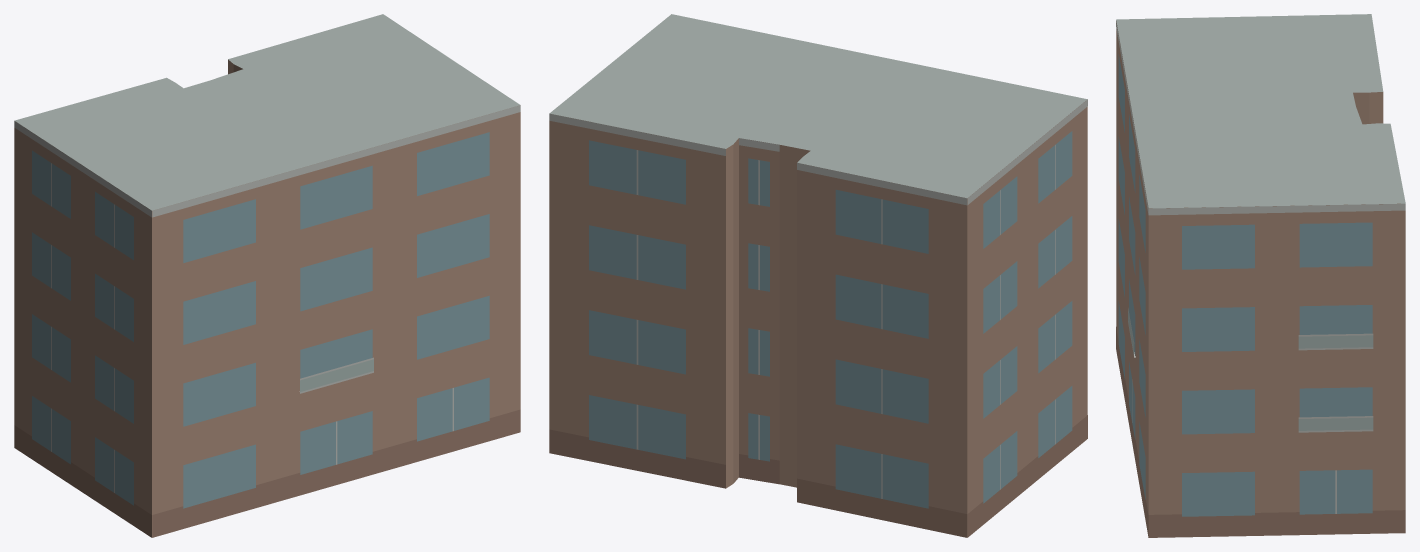
The model's file is survey-upis-32971445.glb.
3 views of the same model, side by side, from view 1: azimuth 30°, elevation 25°; view 2: azimuth 150°, elevation 25°; view 3: azimuth 270°, elevation 25° (orthographic). The views are drawn at different scales.
Visible parts, largest first — view 1: survey-upis-32971445.tmp; view 2: survey-upis-32971445.tmp; view 3: survey-upis-32971445.tmp.
Boxes of the visible parts, x1,y1,x2,y2 form: survey-upis-32971445.tmp: [14, 14, 520, 537]; survey-upis-32971445.tmp: [549, 14, 1087, 537]; survey-upis-32971445.tmp: [1116, 14, 1405, 537].
Bounding box in the file's own units: 14.69 × 11.6 × 9.25.
